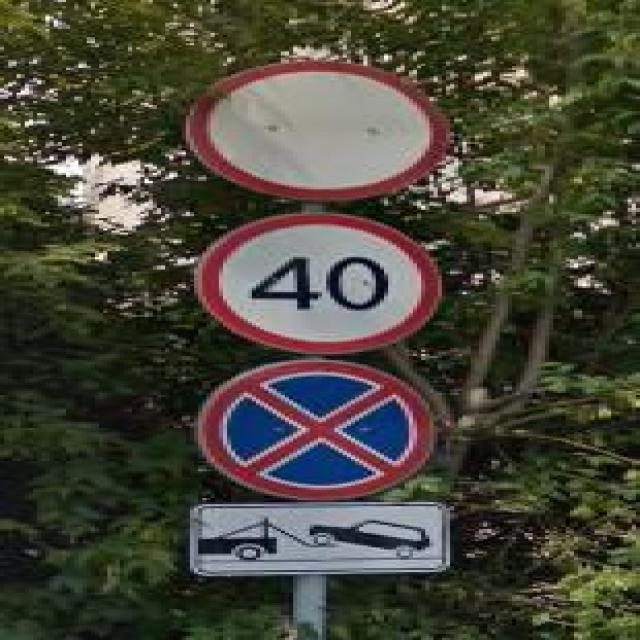Ograniczenie predkosci do 40: (190, 208, 442, 356)
Zakaz ruchu w obu kierunkach: (186, 58, 454, 204)
Zakaz zatrzymywania sie: (198, 358, 438, 502)
